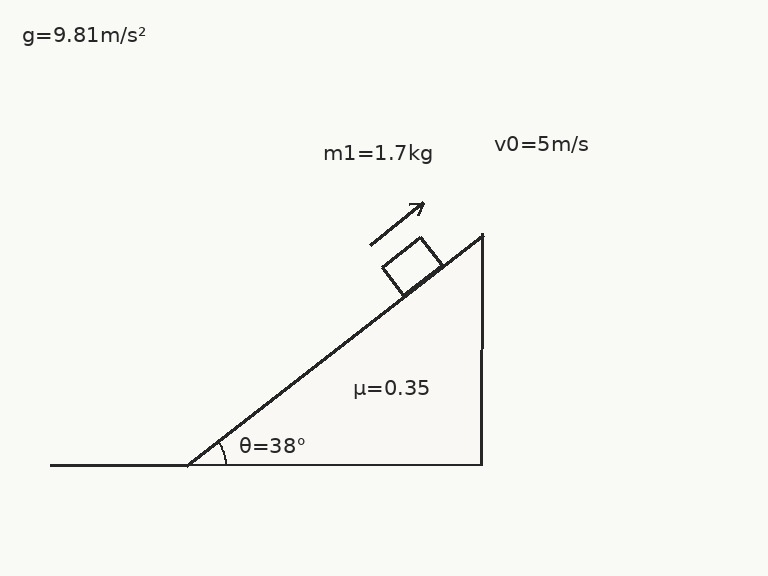block: (379, 235, 444, 297)
ramp: (184, 232, 483, 467)
